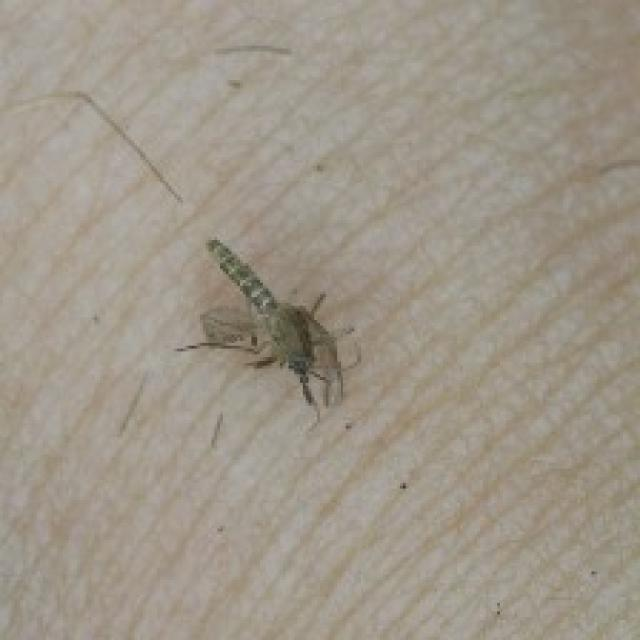culex: (171, 234, 360, 426)
